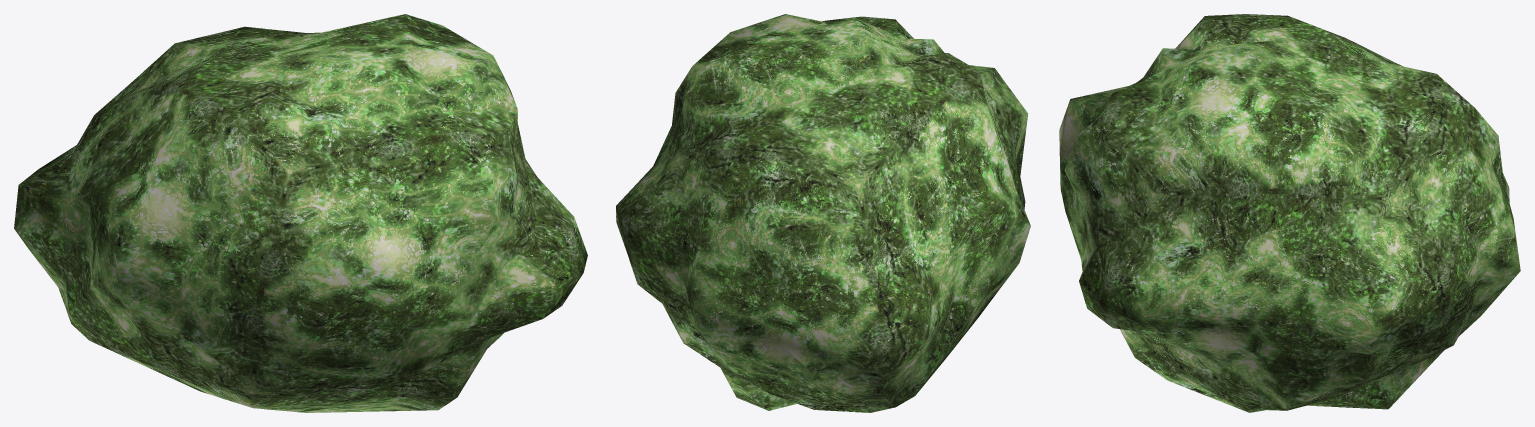
The model's file is asteroid_acid_large_s01_l1.fbx.
3 renders of one model, left to right at view 1: azimuth 30°, elevation 25°; view 2: azimuth 150°, elevation 25°; view 3: azimuth 270°, elevation 25°, orthographic. The views are drawn at different scales.
Visible parts, largest first — view 1: mesh_node; view 2: mesh_node; view 3: mesh_node.
Part boxes in pixels (box(x1,y1,x2,y2)): mesh_node: box(14, 14, 587, 412); mesh_node: box(616, 14, 1030, 412); mesh_node: box(1059, 14, 1520, 412).
Bounding box in the file's own units: 107 × 91.36 × 113.
Materials: 1 (1 with a texture image).
